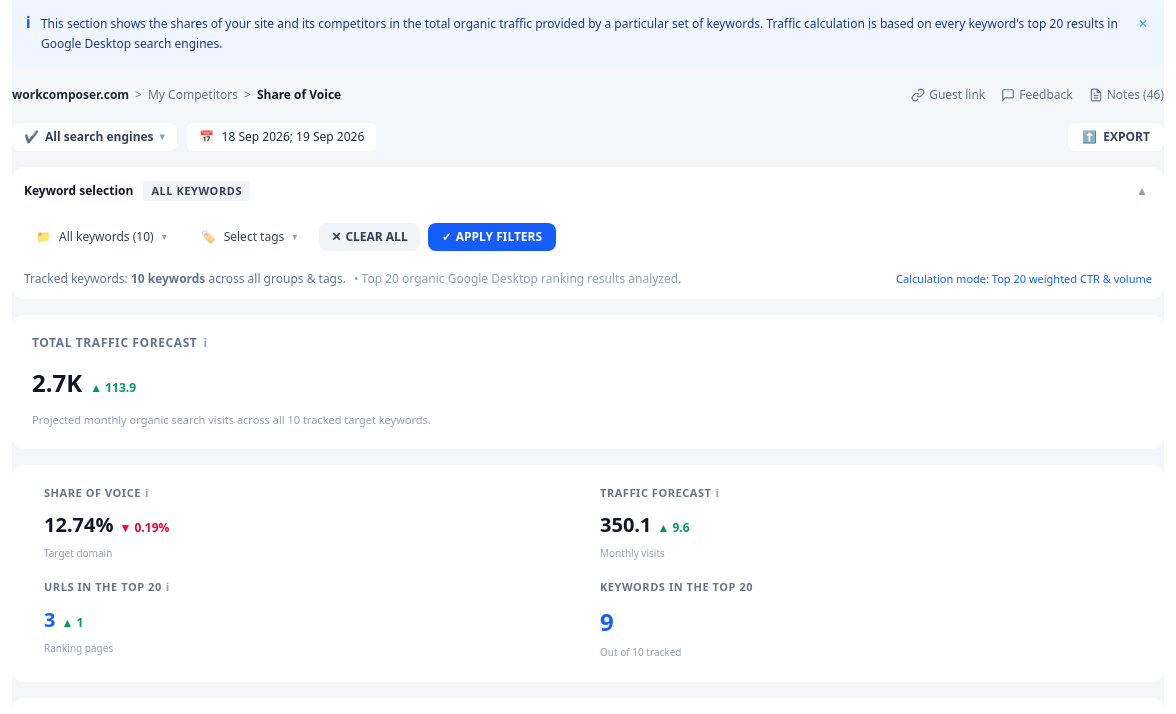
it: ShareOfVoiceView Component › toggles the keyword selection section visibility
Check: the button with aria-label "Select keywords" is shown, box [24, 223, 179, 251]
Click the button named "Toggle keyword selection panel": [1142, 191] box [1132, 179, 1152, 203]
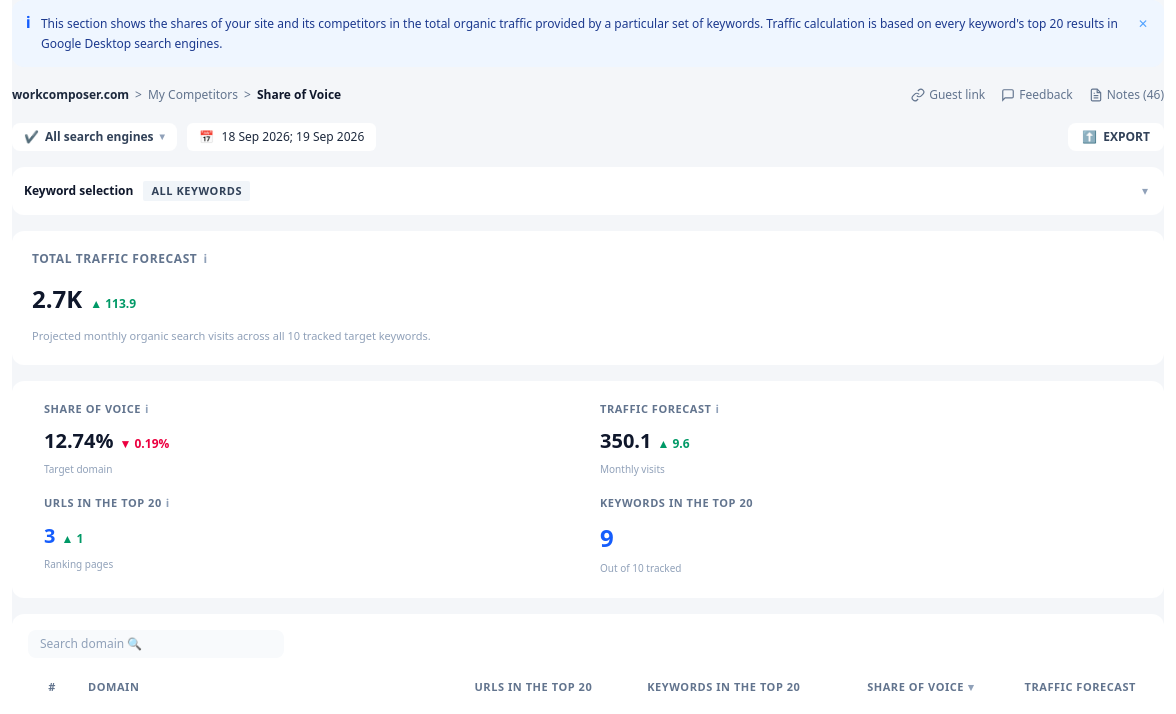
Click the button named "Toggle keyword selection panel": [1145, 191] box [1138, 179, 1152, 203]
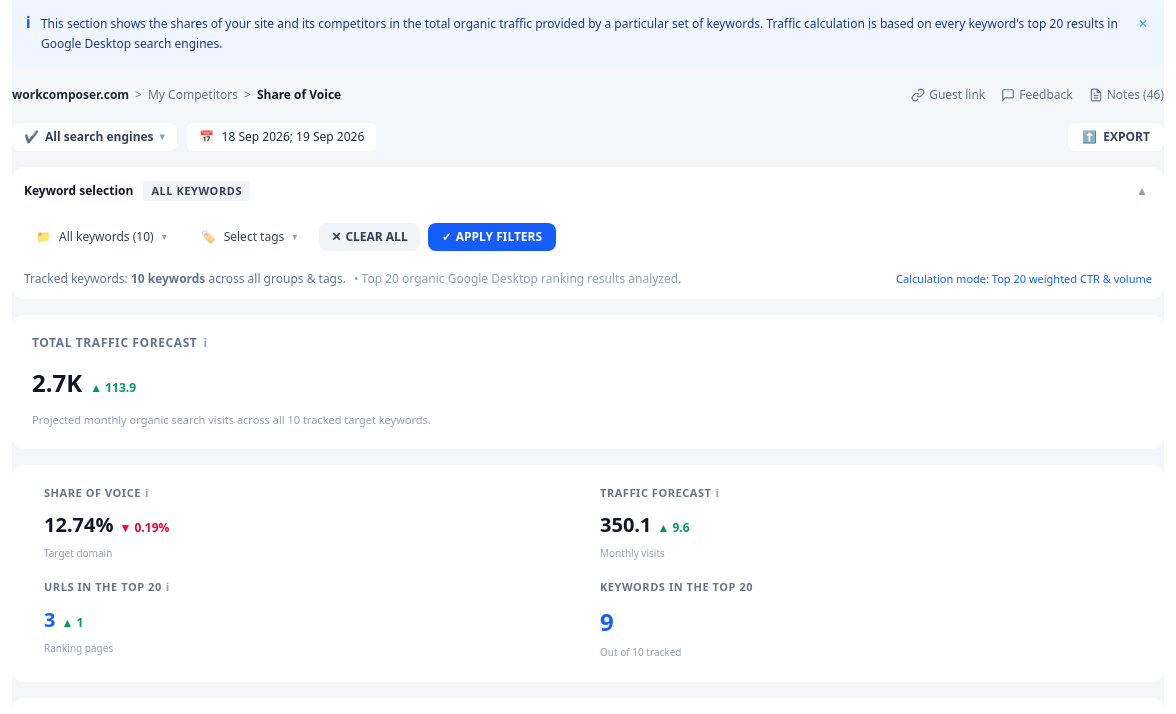
Check: the button with aria-label "Select keywords" is shown, box [24, 223, 179, 251]
